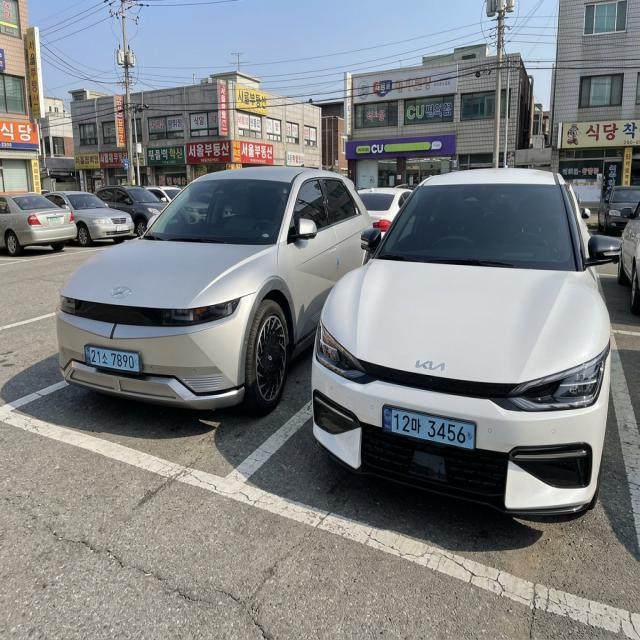car: (372, 398, 488, 455), (76, 336, 154, 382)
carev: (466, 413, 477, 446), (383, 404, 393, 440), (133, 346, 144, 375), (83, 340, 91, 373)
